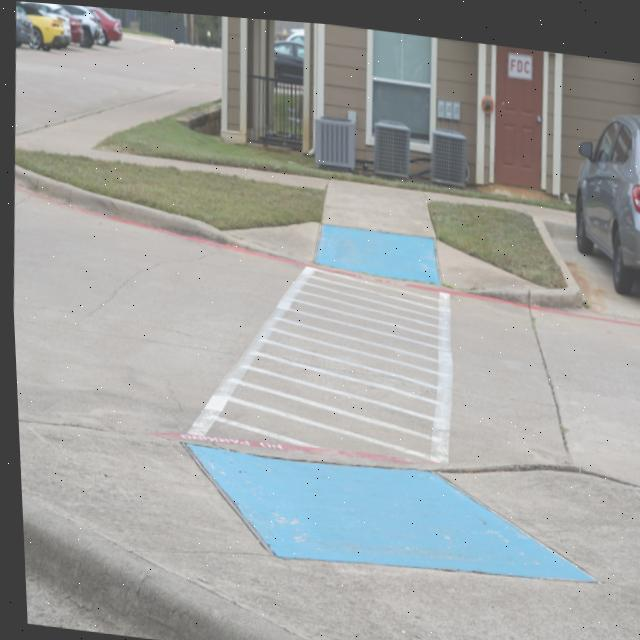Automobile: (574, 105, 640, 285), (16, 1, 122, 50), (274, 35, 303, 78)
Road: (11, 185, 563, 460), (530, 301, 640, 474), (14, 41, 215, 130)
Sidewalk: (15, 422, 640, 640), (14, 80, 580, 299), (86, 148, 572, 231), (14, 129, 47, 148)
